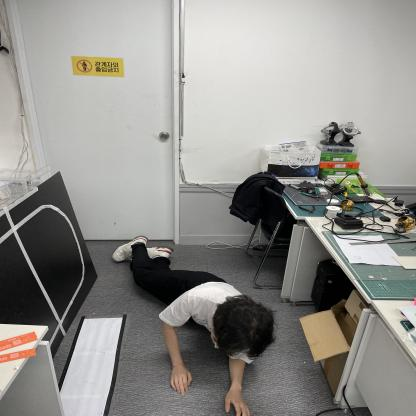fall: (108, 236, 274, 416)
